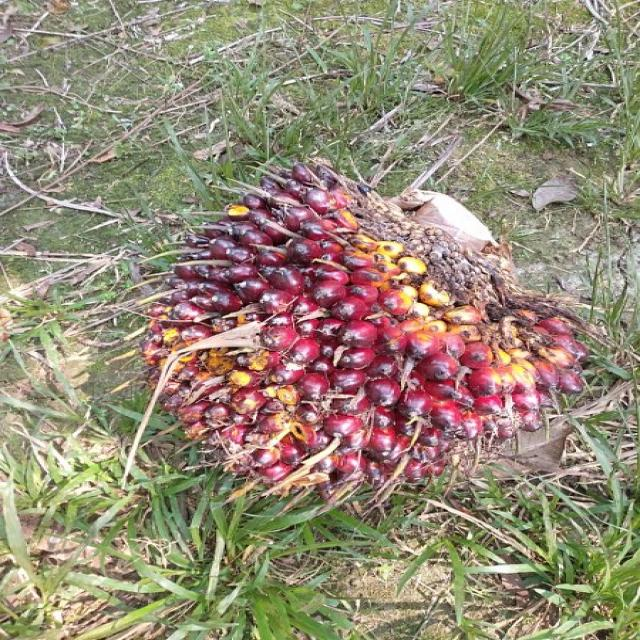fraksi 1: (125, 127, 615, 569)
